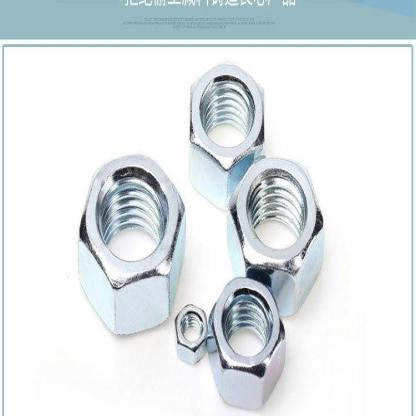FOD: (76, 153, 187, 335), (225, 155, 325, 316), (188, 61, 267, 211), (209, 274, 287, 410), (175, 301, 208, 362)
